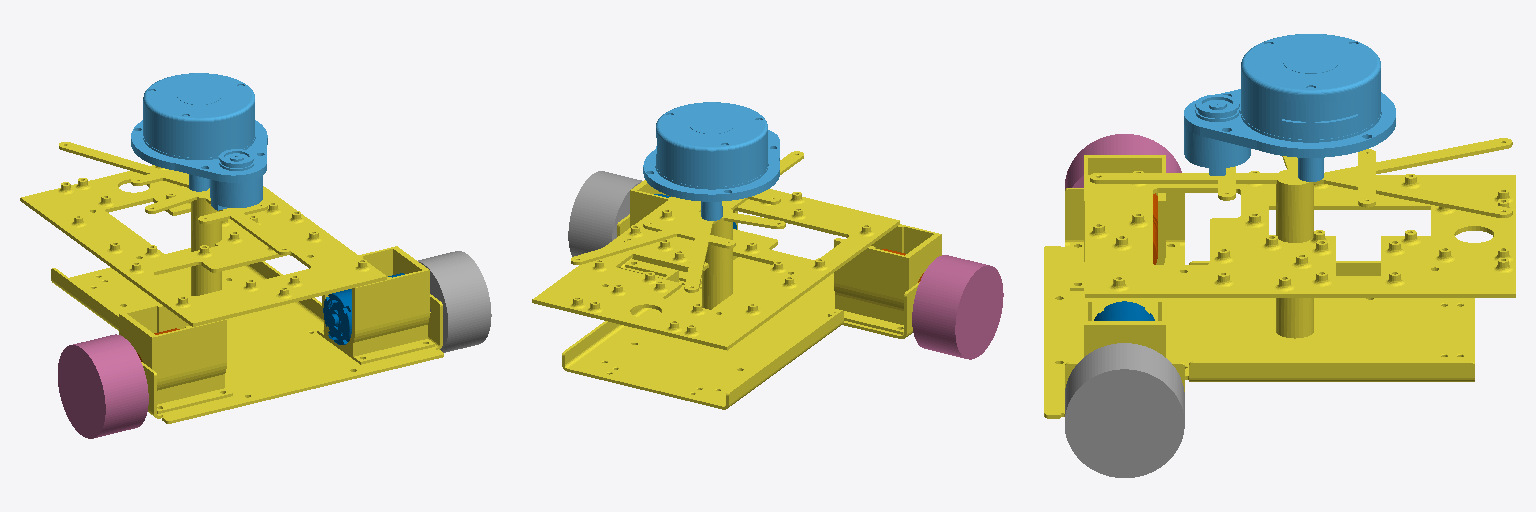
URDF robot description (robotassembly_1_back):
<?xml version='1.0' encoding='utf-8'?> 
<robot name="robotassembly_1_back"> 
    <link name="base_footprint" /> 
    <link name="lidar_link"> 
        <inertial> 
            <origin xyz="0.00015440202932244464 -0.0065620385299784935 -0.04185367413520978" rpy="0.0 -0.0 0.0" /> 
            <mass value="1.2633173769153754" /> 
            <inertia ixx="0.000908075615510668" iyy="0.0005749447965669693" izz="0.0010693282911537476" ixy="-2.1548862294420028e-06" iyz="0.00014759832310927304" ixz="1.7052572358954195e-06" /> 
        </inertial> 
        <visual name="lidar_link_visual"> 
            <origin xyz="-0.0005000000000000555 -0.025500000000000043 0.07049999999999998" rpy="-3.1415926535897927 -0.0 0.0" /> 
            <geometry> 
                <mesh filename="package://manta_bot/meshes/lidar_link.stl" scale="0.001 0.001 0.001" /> 
            </geometry> 
        </visual> 
        <collision name="lidar_link_collision"> 
            <origin xyz="-0.0005000000000000555 -0.025500000000000043 0.07049999999999998" rpy="-3.1415926535897927 -0.0 0.0" /> 
            <geometry> 
                <mesh filename="package://manta_bot/meshes/lidar_link.stl" scale="0.001 0.001 0.001" /> 
            </geometry> 
        </collision> 
    </link> 

    <link name="laser_frame" />

    <link name="base_link"> 
        <inertial> 
            <origin xyz="-0.0005076972341926869 0.014314030630268343 0.011970132819396764" rpy="0.0 0.0 0.0" /> 
            <mass value="1.7931358002694335" /> 
            <inertia ixx="0.008196158089978147" iyy="0.0066773805248528904" izz="0.012459279844548692" ixy="2.0511076616401395e-06" iyz="0.0008834065234856804" ixz="1.9756875760289105e-05" /> 
        </inertial> 
        <visual name="base_link_visual"> 
            <origin xyz="0.0 0.0 0.0" rpy="0.0 0.0 0.0" /> 
            <geometry> 
                <mesh filename="package://manta_bot/meshes/base_link.stl" scale="0.001 0.001 0.001" /> 
            </geometry> 
        </visual> 
        <collision name="base_link_collision"> 
            <origin xyz="0.0 0.0 0.0" rpy="0.0 0.0 0.0" /> 
            <geometry> 
                <mesh filename="package://manta_bot/meshes/base_link.stl" scale="0.001 0.001 0.001" /> 
            </geometry> 
        </collision> 
    </link> 
    <link name="motor_left_1"> 
        <inertial> 
            <origin xyz="-0.0006362127421936681 5.489180224467205e-06 -0.023584074177749787" rpy="0.0 -0.0 0.0" /> 
            <mass value="0.1340810398508418" /> 
            <inertia ixx="6.162333327173163e-05" iyy="6.213756663175918e-05" izz="2.3227934704746775e-05" ixy="-3.1696205792720837e-09" iyz="2.851906472778489e-09" ixz="2.3255520570570575e-06" /> 
        </inertial> 
        <visual name="motor_left_1_visual"> 
            <origin xyz="-0.0063733600000000085 -0.06750000000000007 -0.09599999999999995" rpy="-0.0 1.570796326794896 0" /> 
            <geometry> 
                <mesh filename="package://manta_bot/meshes/motor_left_1.stl" scale="0.001 0.001 0.001" /> 
            </geometry> 
        </visual> 
        <collision name="motor_left_1_collision"> 
            <origin xyz="-0.0063733600000000085 -0.06750000000000007 -0.09599999999999995" rpy="-0.0 1.570796326794896 0" /> 
            <geometry> 
                <mesh filename="package://manta_bot/meshes/motor_left_1.stl" scale="0.001 0.001 0.001" /> 
            </geometry> 
        </collision> 
    </link> 
    <link name="motor_right_1"> 
        <inertial> 
            <origin xyz="-0.0006362047414121897 5.485242672920165e-06 -0.023584073737024785" rpy="0.0 -0.0 0.0" /> 
            <mass value="0.13408104001880694" /> 
            <inertia ixx="6.162333309657768e-05" iyy="6.21375665391669e-05" izz="2.3227934719583547e-05" ixy="-3.1710300486894357e-09" iyz="2.8343180009722656e-09" ixz="2.3255520760948766e-06" /> 
        </inertial> 
        <visual name="motor_right_1_visual"> 
            <origin xyz="-0.006396029999999886 0.06749805999999993 -0.09600000000000006" rpy="-3.141592653589793 -1.5707963267948952 0" /> 
            <geometry> 
                <mesh filename="package://manta_bot/meshes/motor_right_1.stl" scale="0.001 0.001 0.001" /> 
            </geometry> 
        </visual> 
        <collision name="motor_right_1_collision"> 
            <origin xyz="-0.006396029999999886 0.06749805999999993 -0.09600000000000006" rpy="-3.141592653589793 -1.5707963267948952 0" /> 
            <geometry> 
                <mesh filename="package://manta_bot/meshes/motor_right_1.stl" scale="0.001 0.001 0.001" /> 
            </geometry> 
        </collision> 
    </link> 
    <link name="wheel_right_1"> 
        <inertial> 
            <origin xyz="4.240722671494668e-09 -2.1337818800759577e-09 0.021417095115681004" rpy="0.0 -0.0 0.0" /> 
            <mass value="0.690719357277638" /> 
            <inertia ixx="0.0002111188473839752" iyy="0.0002111188473948155" izz="0.00030970906018714956" ixy="-5.082197683525809e-20" iyz="1.0069039990052151e-16" ixz="1.5739499283699238e-19" /> 
        </inertial> 
        <visual name="wheel_right_1_visual"> 
            <origin xyz="0.0006039700000001219 0.06749805999999993 -0.10200000000000005" rpy="-3.141592653589793 -1.5707963267948952 0" /> 
            <geometry> 
                <mesh filename="package://manta_bot/meshes/wheel_right_1.stl" scale="0.001 0.001 0.001" /> 
            </geometry> 
        </visual> 
        <collision name="wheel_right_1_collision"> 
            <origin xyz="0.0006039700000001219 0.06749805999999993 -0.10200000000000005" rpy="-3.141592653589793 -1.5707963267948952 0" /> 
            <geometry> 
                <mesh filename="package://manta_bot/meshes/wheel_right_1.stl" scale="0.001 0.001 0.001" /> 
            </geometry> 
        </collision> 
    </link> 
    <link name="wheel_left_1"> 
        <inertial> 
            <origin xyz="-3.6576842633861963e-09 -5.74296166178101e-14 0.021417095115681094" rpy="0.0 -0.0 0.0" /> 
            <mass value="0.6907193572776398" /> 
            <inertia ixx="0.00021111884744365317" iyy="0.00021111884737491302" izz="0.0003097090602269376" ixy="1.8024861117571504e-18" iyz="-1.2074453477412487e-17" ixz="-9.65521154413386e-19" /> 
        </inertial> 
        <visual name="wheel_left_1_visual"> 
            <origin xyz="0.0006266399999999918 -0.06750000000000007 -0.10199999999999994" rpy="-0.0 1.570796326794896 0" /> 
            <geometry> 
                <mesh filename="package://manta_bot/meshes/wheel_left_1.stl" scale="0.001 0.001 0.001" /> 
            </geometry> 
        </visual> 
        <collision name="wheel_left_1_collision"> 
            <origin xyz="0.0006266399999999918 -0.06750000000000007 -0.10199999999999994" rpy="-0.0 1.570796326794896 0" /> 
            <geometry> 
                <mesh filename="package://manta_bot/meshes/wheel_left_1.stl" scale="0.001 0.001 0.001" /> 
            </geometry> 
        </collision> 
    </link> 
    <joint name="base_footprint_to_base_link" type="fixed"> 
        <origin xyz="0 0 0" rpy="0 0 3.141592653589793" /> 
        <parent link="base_footprint" /> 
        <child link="base_link" /> 
    </joint> 
    <joint name="base_link_motor_left_to_base_link" type="fixed"> 
        <origin xyz="-0.096 0.0675 0.006373360000000001" rpy="6.959195283221548e-16 -1.5707963267948966 0" /> 
        <parent link="base_link" /> 
        <child link="motor_left_1" /> 
    </joint> 
    <joint name="base_link_motor_right_to_base_link" type="fixed"> 
        <origin xyz="0.096 0.06749806000000001 0.0063960300000000005" rpy="-3.1415926535897927 -1.5707963267948966 0" /> 
        <parent link="base_link" /> 
        <child link="motor_right_1" /> 
    </joint> 
    <joint name="motor_right_1_wheel_right_to_motor_right" type="continuous"> 
        <origin xyz="-0.007000000000000007 8.881784197001253e-18 0.005999999999999997" rpy="-1.9721522630525295e-31 -0.0 0.0" /> 
        <parent link="motor_right_1" /> 
        <child link="wheel_right_1" /> 
        <axis xyz="0.0 7.753132050511999e-16 1.0" /> 
    </joint> 
    <joint name="motor_left_1_wheel_left_to_motor_left" type="continuous"> 
        <origin xyz="-0.006999999999999999 0.0 0.005999999999999997" rpy="0.0 -0.0 0.0" /> 
        <parent link="motor_left_1" /> 
        <child link="wheel_left_1" /> 
        <axis xyz="-0.0 6.959195283221548e-16 1.0" /> 
    </joint> 
    <joint name="base_link_lidar_link_to_base_link" type="fixed"> 
        <origin xyz="0.0005 -0.0255 0.0705" rpy="3.1415926535897927 -0.0 0" /> 
        <parent link="base_link" /> 
        <child link="lidar_link" /> 
    </joint> 

    <joint name="laser_frame_joint" type="fixed"> 
        <origin xyz="0 0 0" rpy="3.1415926535897927 0 0" /> 
        <parent link="lidar_link" /> 
        <child link="laser_frame" /> 
    </joint> 
</robot>

--- Render facts (derived) ---
3 views of the same robot in one strip: view 1: azimuth 30°, elevation 25°; view 2: azimuth 150°, elevation 25°; view 3: azimuth 270°, elevation 25° (orthographic).
Robot: robotassembly_1_back — 8 links, 7 joints (2 continuous, 5 fixed); root link base_footprint; default pose: all joints at 0.
Visible links, largest first — view 1: base_link, lidar_link, wheel_right_1, wheel_left_1, motor_left_1; view 2: base_link, lidar_link, wheel_right_1, wheel_left_1; view 3: base_link, lidar_link, wheel_left_1, wheel_right_1, motor_left_1.
Boxes of the visible links, box(x1,y1,x2,y2) form: base_link: box(20, 142, 443, 423); lidar_link: box(131, 73, 267, 210); wheel_right_1: box(58, 334, 148, 438); wheel_left_1: box(418, 251, 491, 352); motor_left_1: box(323, 273, 404, 344); base_link: box(532, 151, 941, 409); lidar_link: box(643, 102, 779, 220); wheel_right_1: box(912, 255, 1003, 359); wheel_left_1: box(568, 171, 641, 256); base_link: box(1044, 138, 1515, 418); lidar_link: box(1184, 34, 1395, 181); wheel_left_1: box(1065, 343, 1184, 477); wheel_right_1: box(1065, 134, 1181, 188); motor_left_1: box(1094, 301, 1154, 320).
Size in the robot's own frame: 0.278 by 0.235 by 0.1643 metres.
6 mesh visuals loaded from 6 distinct referenced files (6 binary STL).
